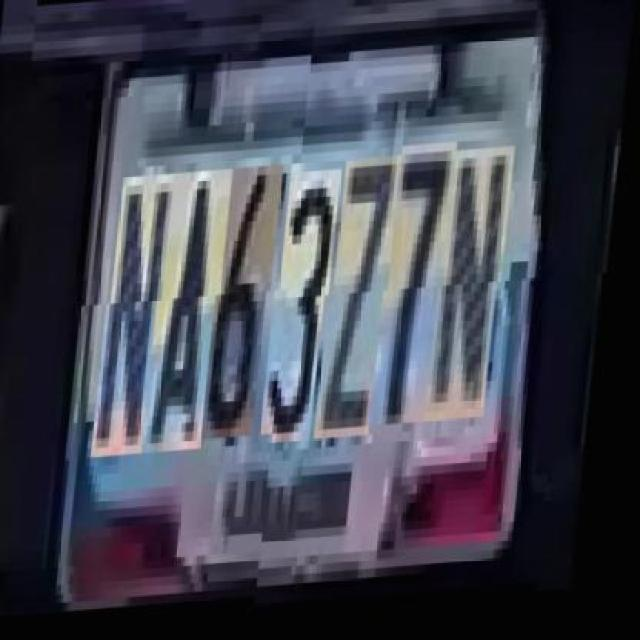3: (274, 166, 348, 440)
6: (214, 169, 288, 443)
7: (384, 141, 462, 424)
a: (154, 173, 238, 456)
n: (438, 146, 520, 420), (106, 176, 182, 459)
z: (329, 154, 406, 437)
